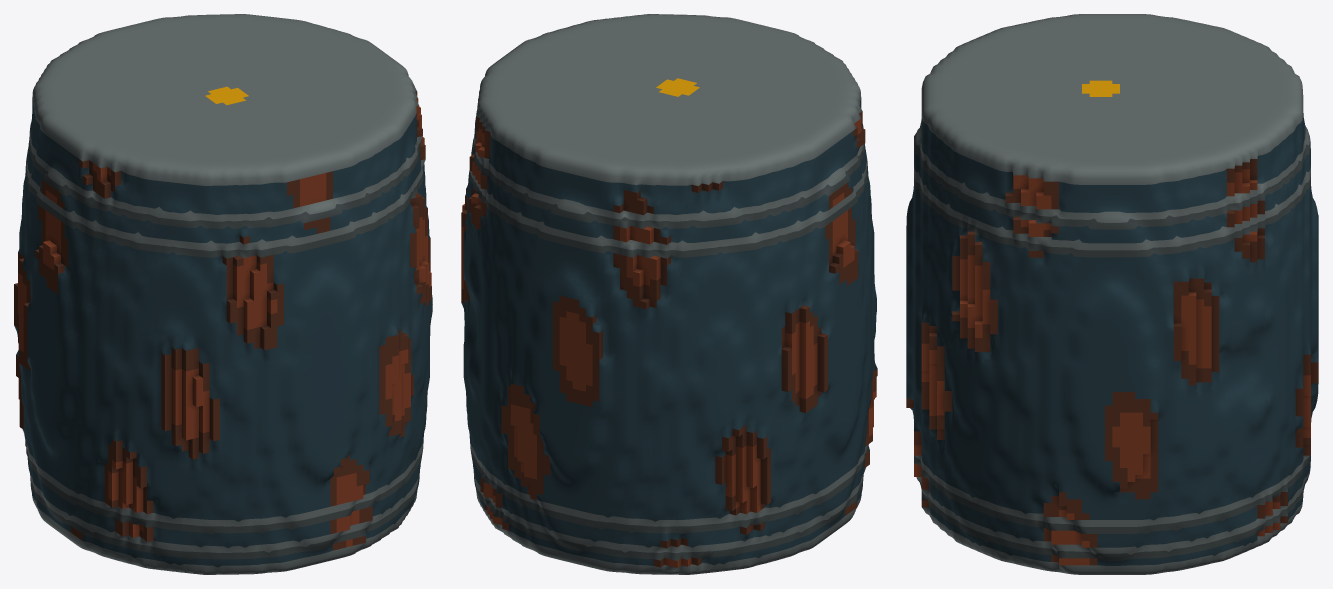
File: rusty-drum.glb
The picture shows the model from 3 angles, left to right: view 1: azimuth 30°, elevation 25°; view 2: azimuth 150°, elevation 25°; view 3: azimuth 270°, elevation 25°; orthographic projection.
Parts seen in each view (by area): view 1: __playground; view 2: __playground; view 3: __playground.
Part boxes in pixels (x1,y1,x2,y2): __playground: (14, 14, 432, 574); __playground: (461, 14, 877, 574); __playground: (906, 14, 1318, 574).
Bounding box in the file's own units: 1.35 × 1.48 × 1.35.
